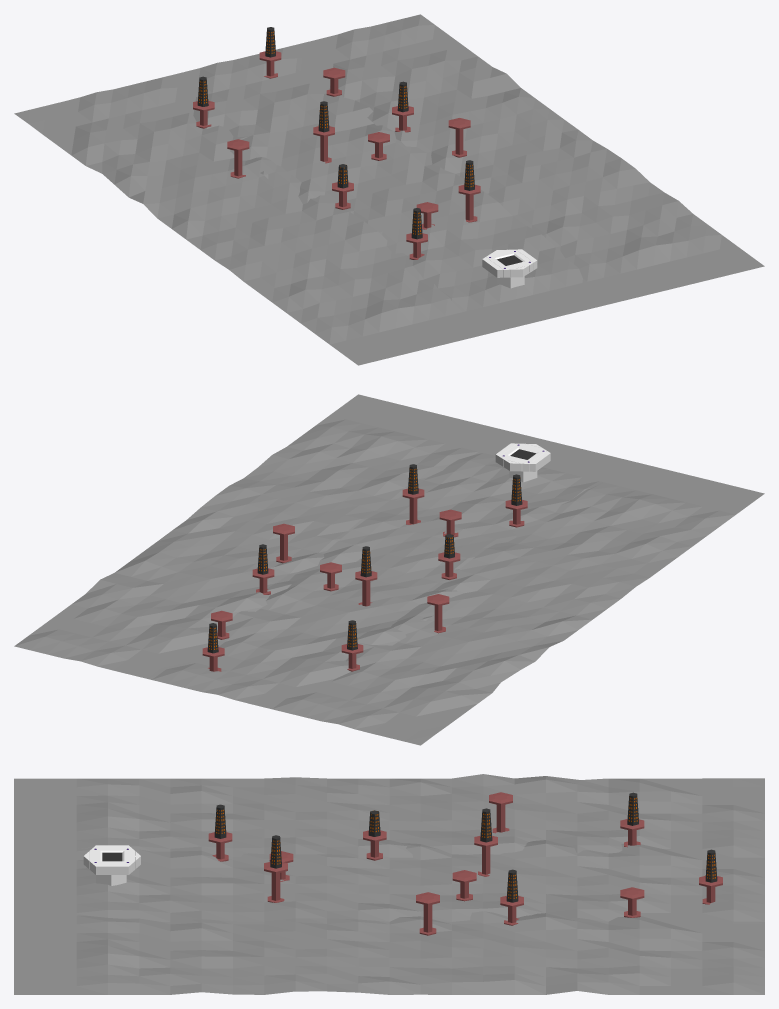
The model's file is Level3_model.FBX.
3 renders of one model, top to bottom at view 1: azimuth 30°, elevation 25°; view 2: azimuth 150°, elevation 25°; view 3: azimuth 270°, elevation 25°, orthographic. The views are drawn at different scales.
Parts seen in each view (by area): view 1: Plane002, Plane003, Plane001, ChamferCyl030, Object016; view 2: Plane002, Plane003, Plane001, ChamferCyl030, Object016, Group001; view 3: Plane003, Plane002, Plane001, ChamferCyl030, Object016, Group001.
Part boxes in pixels (x1=…): Plane002: x1=14, y1=77, x2=503, y2=365; Plane003: x1=284, y1=14, x2=764, y2=302; Plane001: x1=163, y1=48, x2=624, y2=335; ChamferCyl030: x1=193, y1=51, x2=480, y2=259; Object016: x1=482, y1=249, x2=537, y2=288; Plane002: x1=272, y1=457, x2=764, y2=745; Plane003: x1=14, y1=394, x2=506, y2=679; Plane001: x1=151, y1=428, x2=644, y2=709; ChamferCyl030: x1=202, y1=488, x2=527, y2=671; Object016: x1=495, y1=443, x2=550, y2=482; Group001: x1=208, y1=469, x2=520, y2=649; Plane003: x1=14, y1=911, x2=764, y2=994; Plane002: x1=14, y1=774, x2=764, y2=857; Plane001: x1=14, y1=839, x2=764, y2=921; ChamferCyl030: x1=208, y1=792, x2=722, y2=935; Object016: x1=83, y1=845, x2=140, y2=885; Group001: x1=215, y1=797, x2=716, y2=898.
Bounding box in the file's own units: 12191 × 2246 × 17875.
